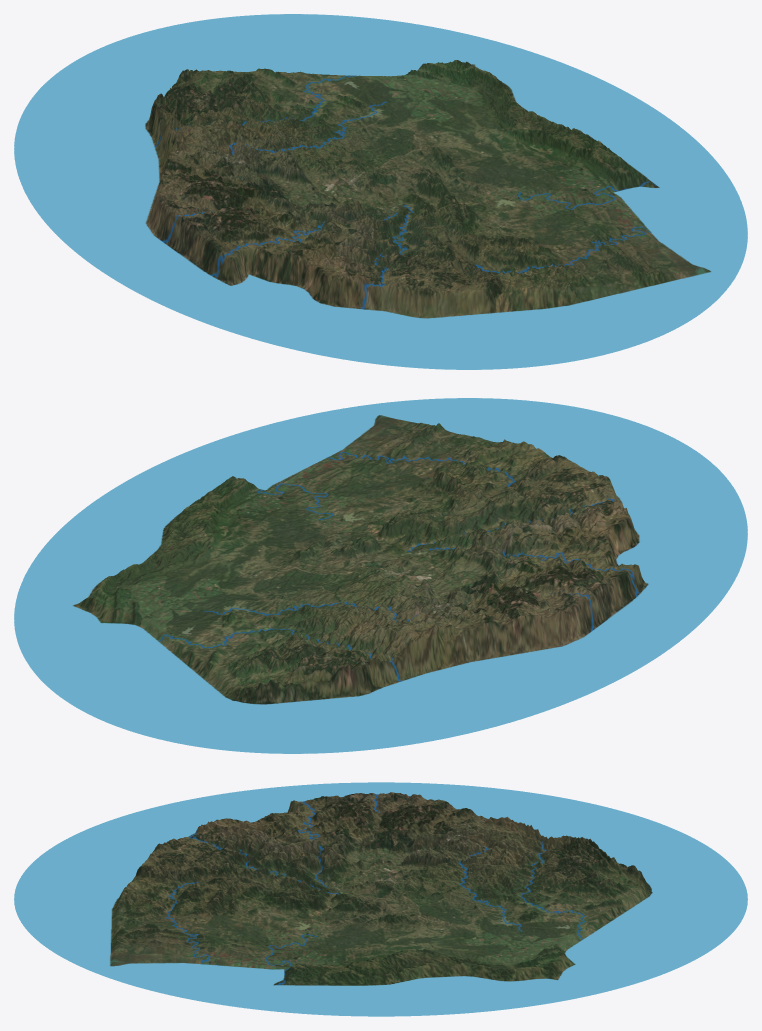
Rendered from SWZ-previa-terrain.glb.
The picture shows the model from 3 angles, top to bottom: view 1: azimuth 30°, elevation 25°; view 2: azimuth 150°, elevation 25°; view 3: azimuth 270°, elevation 25°; orthographic projection. The views are drawn at different scales.
Parts seen in each view (by area): view 1: Essuatíni; view 2: Essuatíni; view 3: Essuatíni.
Part boxes in pixels (x1,y1,x2,y2): Essuatíni: (14,14,747,369); Essuatíni: (14,398,747,753); Essuatíni: (14,782,747,1016).
Size of the model in its own units: 1.8 by 0.1083 by 2.38.
1 material, 1 textured.
